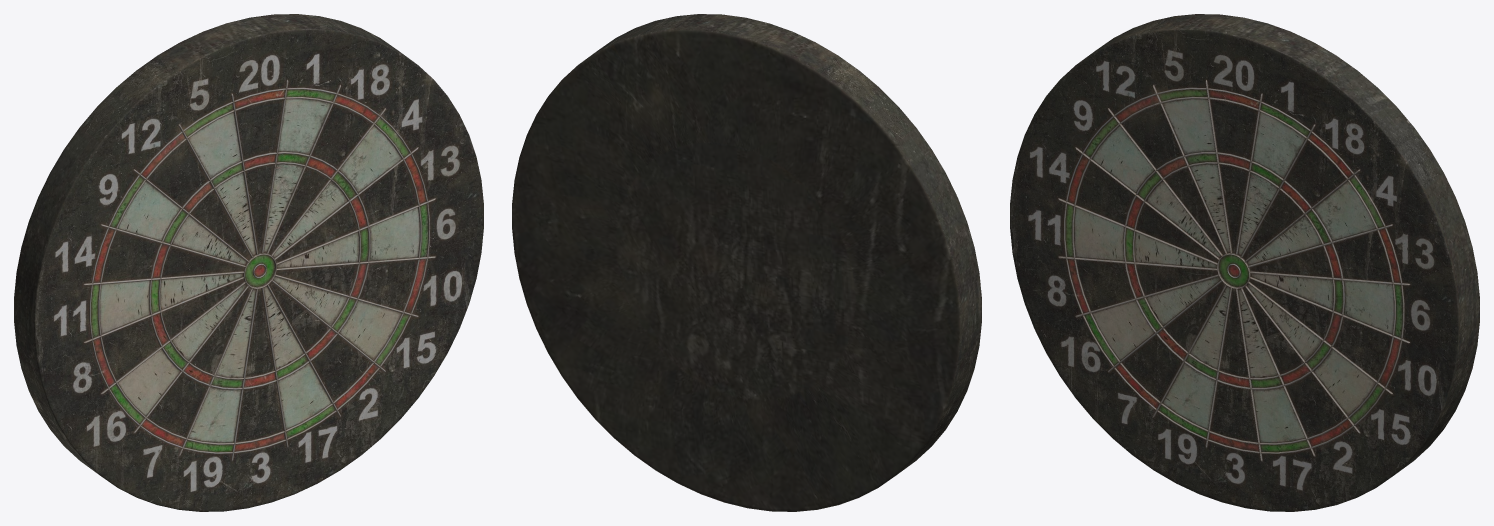
Rendered from ph_dartboard.glb.
3 views of the same model, side by side, from view 1: azimuth 30°, elevation 25°; view 2: azimuth 150°, elevation 25°; view 3: azimuth 330°, elevation 25° (orthographic).
Parts seen in each view (by area): view 1: dartboard; view 2: dartboard; view 3: dartboard.
Part boxes in pixels (<box>): dartboard: <box>14,14,483,511</box>; dartboard: <box>512,14,981,511</box>; dartboard: <box>1010,14,1479,511</box>.
Size of the model in its own units: 0.4507 by 0.4507 by 0.0398.
Materials: 1 (1 with a texture image).
